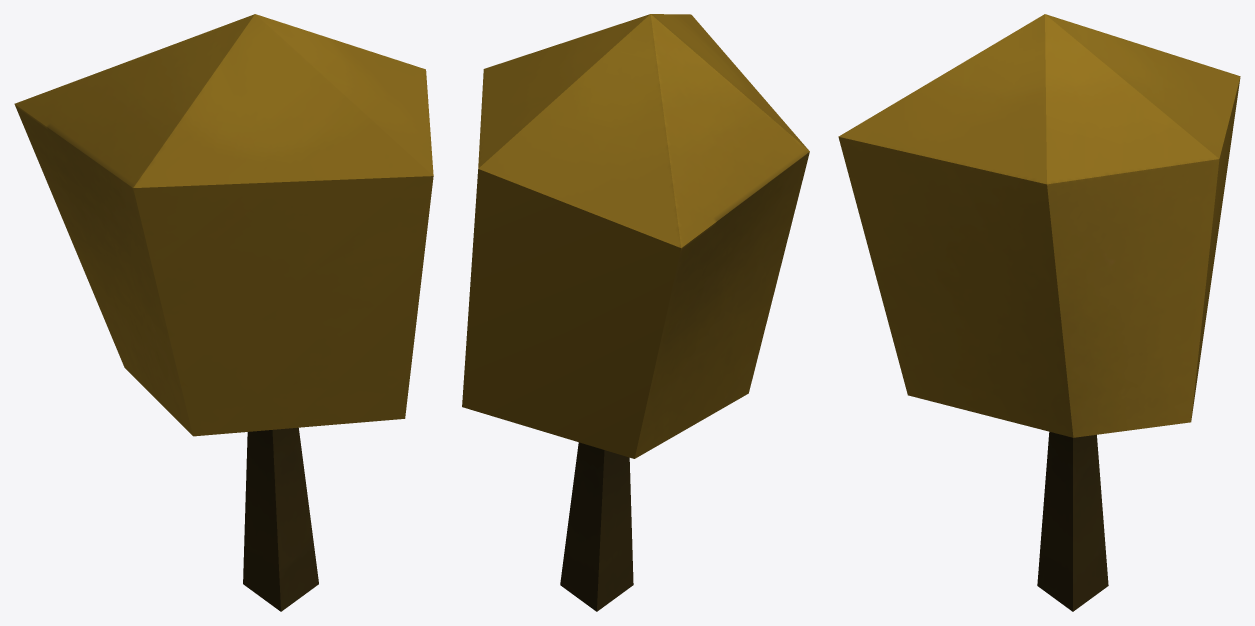
The model's file is Leave_tree_C4_02.FBX.
The picture shows the model from 3 angles, left to right: view 1: azimuth 30°, elevation 25°; view 2: azimuth 150°, elevation 25°; view 3: azimuth 270°, elevation 25°; orthographic projection. The views are drawn at different scales.
Visible parts, largest first — view 1: Leave_tree_C4_02; view 2: Leave_tree_C4_02; view 3: Leave_tree_C4_02.
Boxes of the visible parts, x1,y1,x2,y2 form: Leave_tree_C4_02: (14,14,433,611); Leave_tree_C4_02: (462,14,809,611); Leave_tree_C4_02: (838,14,1240,611).
Size of the model in its own units: 24.48 by 28.87 by 44.5.
